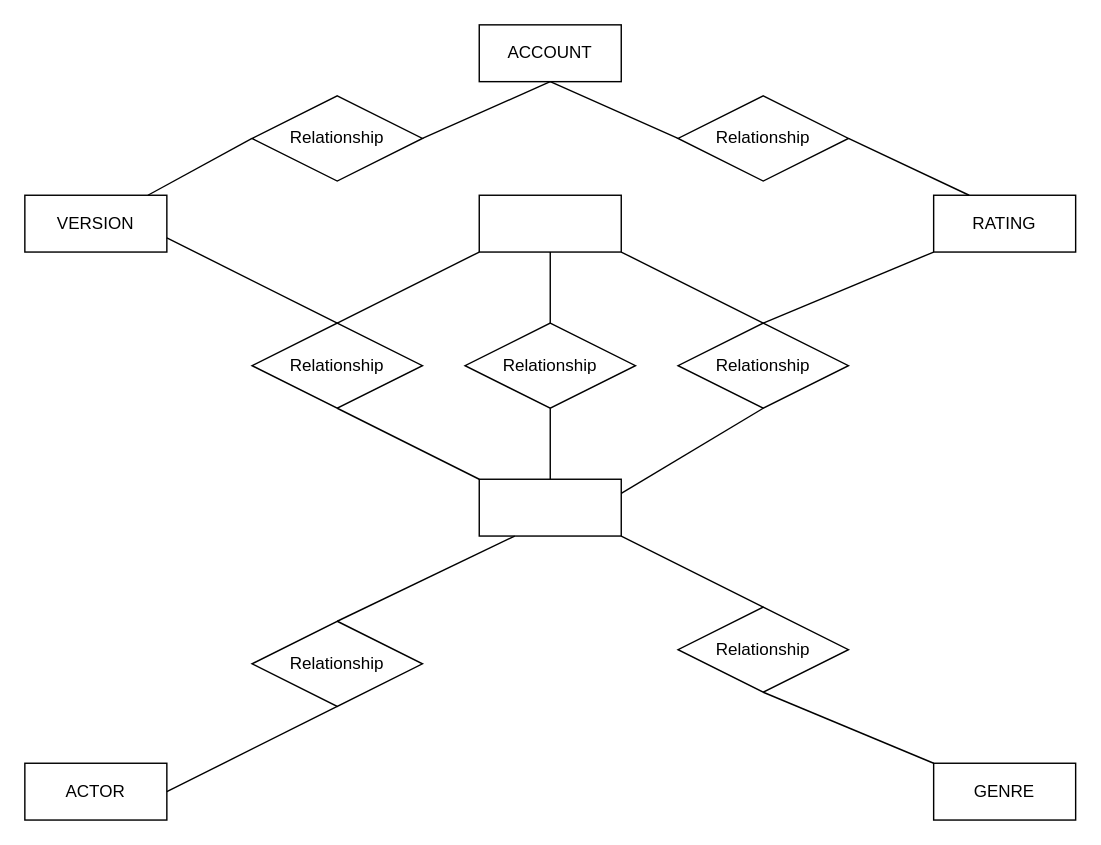
Some shapes in this 1101 by 845 pixel diagram are drawn without their labels. The shapes that lost their labels are listed below. From the top down, each one's box as (x1, y1, x2, y2) in pixels, then its label:
(478, 194, 621, 252): EPISODE
(478, 478, 621, 536): MOVIE
